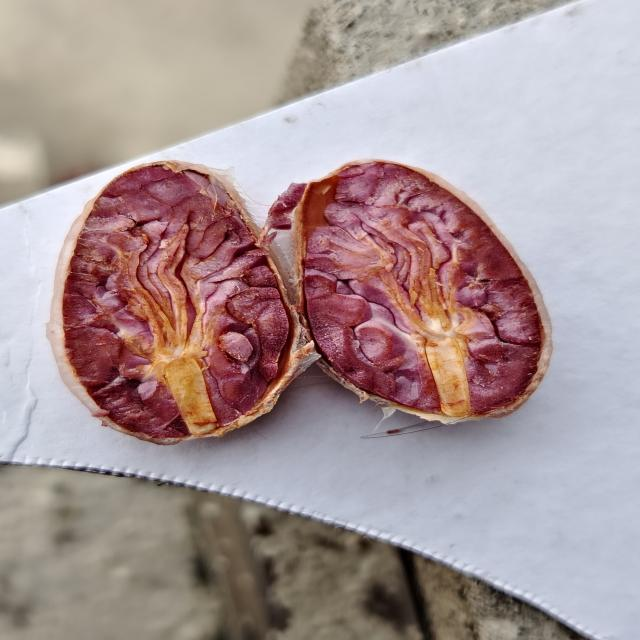Forastero: (303, 160, 542, 415), (62, 169, 285, 438)
